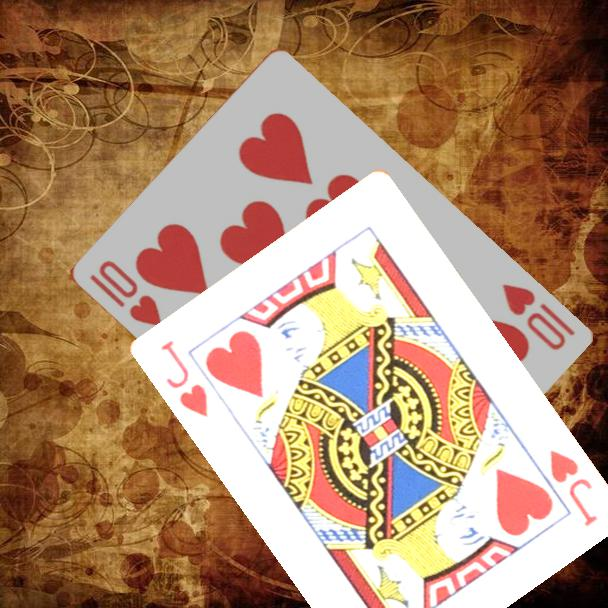h10: (85, 256, 165, 331), (498, 280, 578, 354)
h11: (546, 446, 602, 530), (157, 337, 212, 420)
